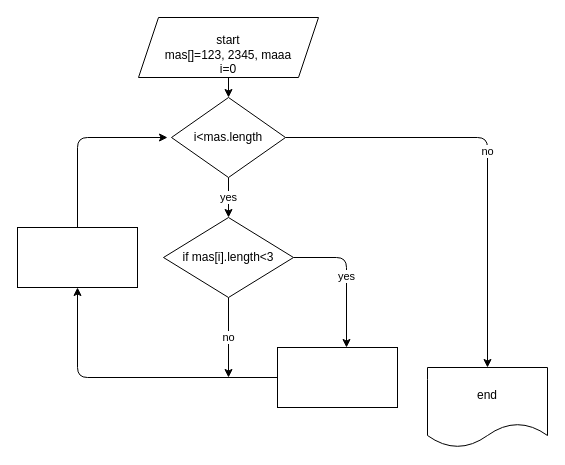
The diagram is 565 pixels wide and 465 high, and some of its shapes have lost their labels. The box of each missing label's shape, as (x1, y1, x2, y2) in pixels:
i++: (16, 226, 138, 288)
print : mas[i]: (276, 346, 398, 408)
